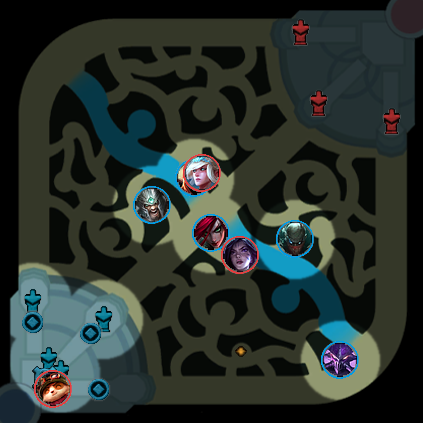Janna: (183, 154, 221, 192)
Kaisa: (221, 236, 259, 274)
Kassadin: (321, 341, 359, 379)
Katarina: (192, 214, 230, 252)
Pyke: (276, 220, 314, 258)
Teemo: (34, 370, 72, 408)
Tryndamere: (133, 186, 171, 224)
Zed: (175, 159, 213, 197)
